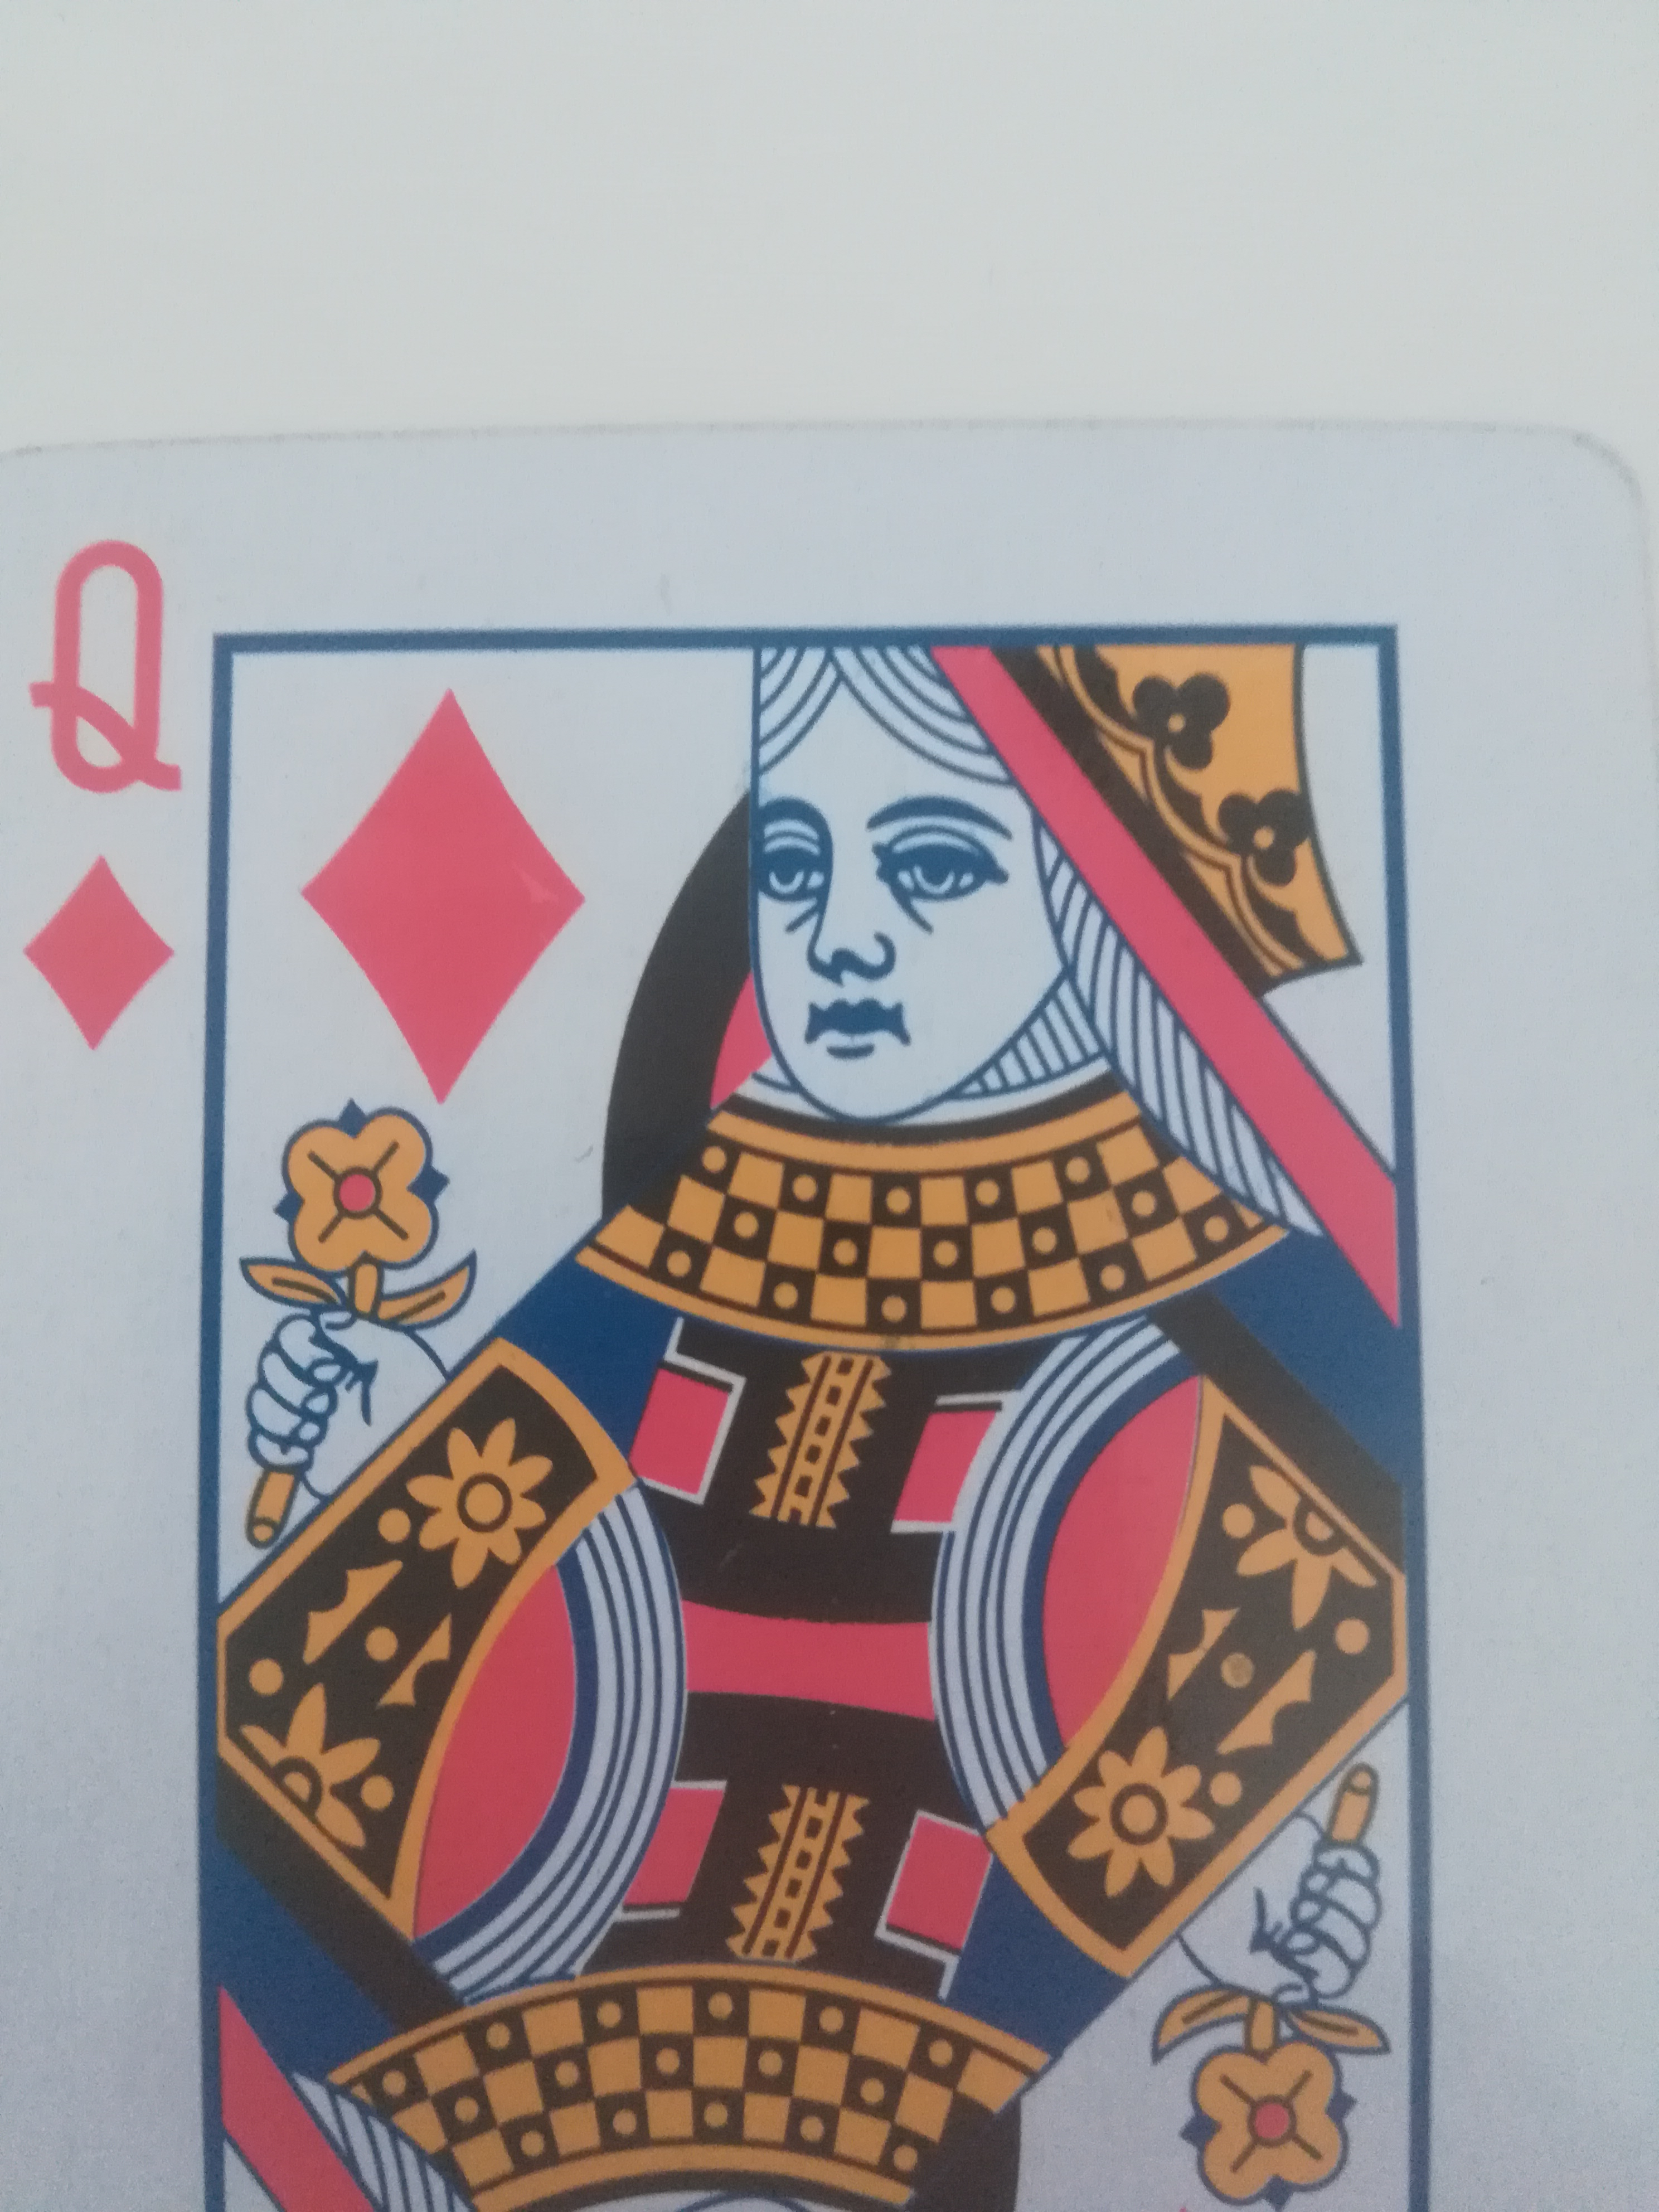QD: (0, 434, 1656, 2209)
